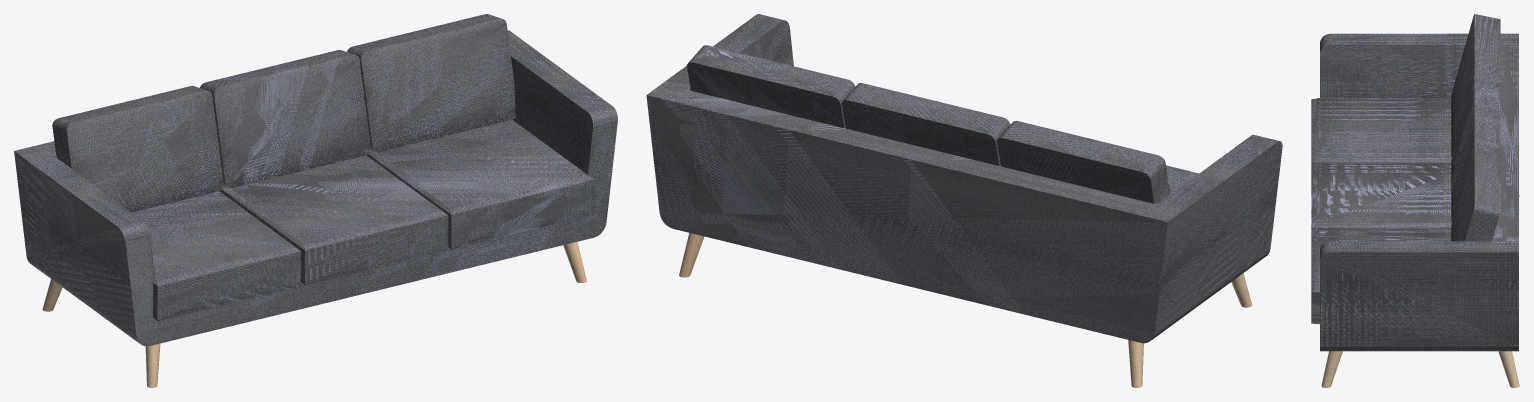
3 renders of one model, left to right at view 1: azimuth 30°, elevation 25°; view 2: azimuth 150°, elevation 25°; view 3: azimuth 270°, elevation 25°, orthographic. The views are drawn at different scales.
Visible parts, largest first — view 1: coussin_haut (×6), coussin (×6), group_0 (×2), pied (×2); view 2: group_0, coussin_haut (×3), pied (×2); view 3: group_0, coussin (×3), coussin_haut (×6), pied (×2).
Boxes of the visible parts, x1,y1,x2,y2 form: coussin_haut (×6): (52,14,515,212); coussin (×6): (132,119,594,320); group_0 (×2): (14,30,617,346); pied (×2): (145,242,586,387); group_0: (646,14,1282,343); coussin_haut (×3): (687,45,1170,203); pied (×2): (679,233,1143,387); group_0: (1320,33,1518,351); coussin (×3): (1311,98,1451,324); coussin_haut (×6): (1451,14,1500,241); pied (×2): (1321,351,1519,387).
Bounding box in the file's own units: 252 × 102 × 98.43.
5 materials, 3 textured.
